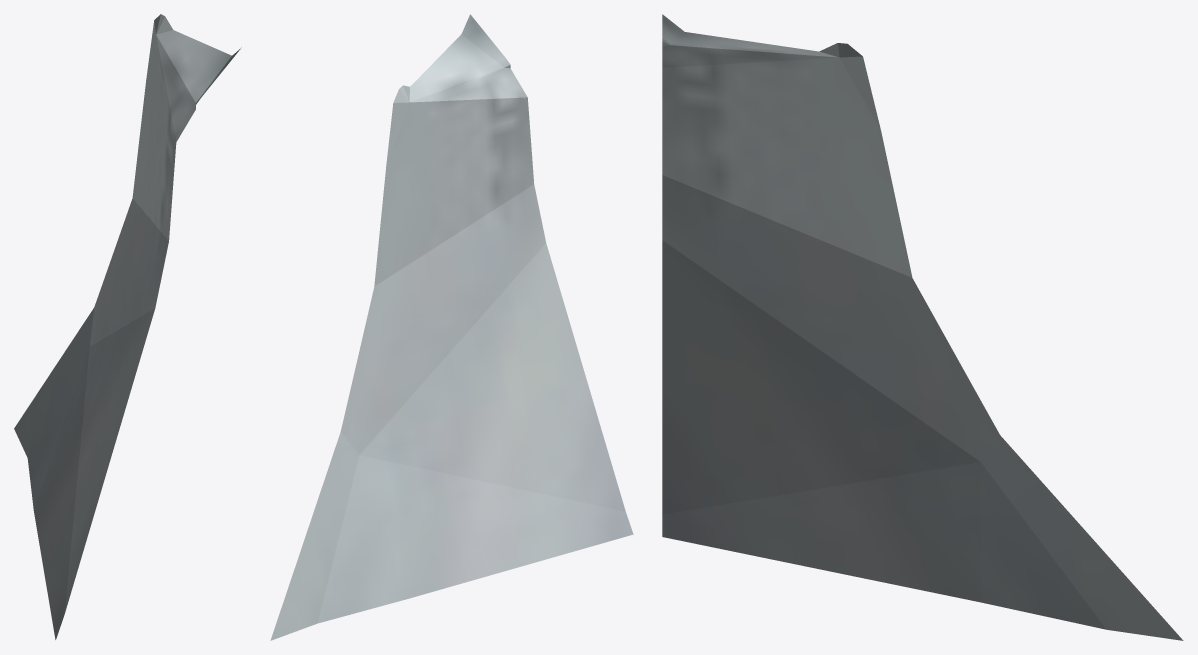
3 renders of one model, left to right at view 1: azimuth 30°, elevation 25°; view 2: azimuth 150°, elevation 25°; view 3: azimuth 270°, elevation 25°, orthographic. The views are drawn at different scales.
Bounding box in the file's own units: 0.1087 × 0.3055 × 0.2303.
Materials: 1 (1 with a texture image).
